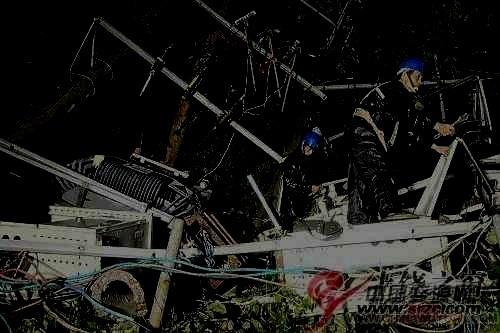helmet: (396, 55, 426, 92), (297, 131, 323, 157)
